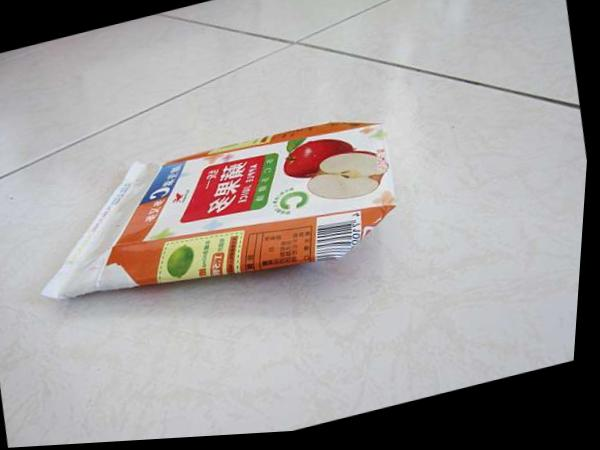cardboard: (43, 121, 394, 298)
